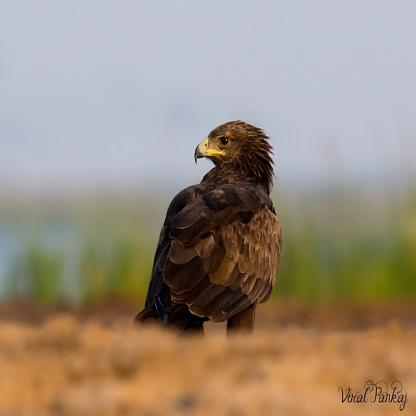Burung: (129, 121, 282, 349)
